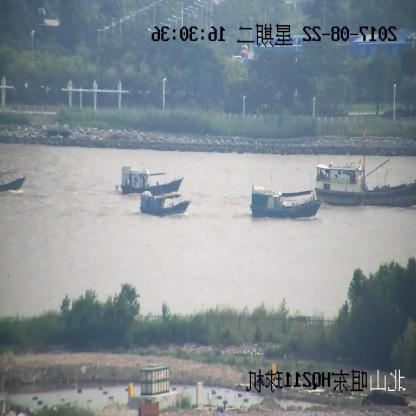Fishing Boat: (313, 134, 416, 206), (250, 181, 322, 221), (120, 165, 184, 196), (141, 192, 189, 218), (0, 171, 26, 193)
